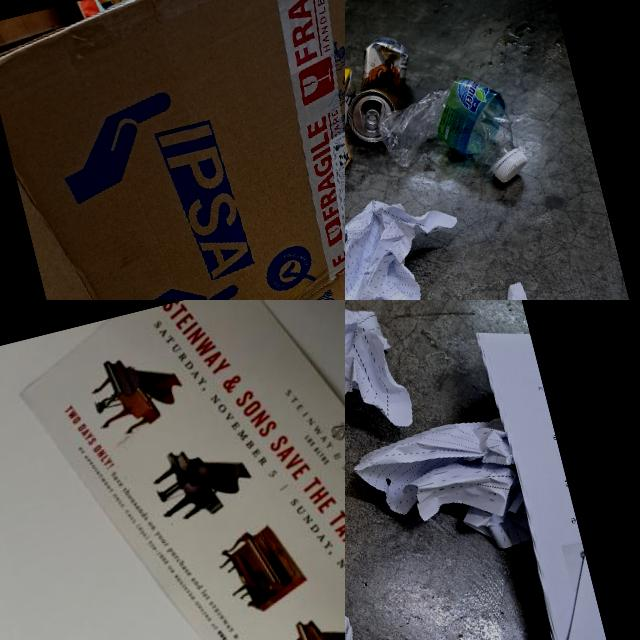aba de lata: (360, 105, 384, 132)
garrafa plástica: (370, 61, 532, 210)
lata: (345, 28, 425, 146)
papel: (9, 300, 345, 640), (432, 322, 634, 640), (350, 411, 536, 579), (345, 177, 481, 300), (345, 300, 416, 465)
papelão: (0, 0, 345, 300)
tampa plástica: (487, 143, 535, 188)
